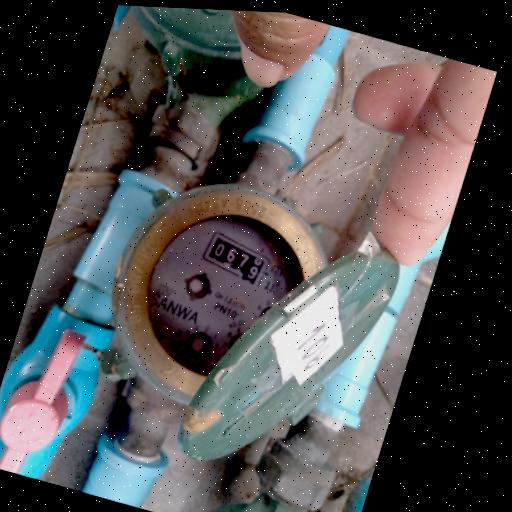0: (208, 237, 232, 264)
6: (219, 242, 244, 269)
7: (232, 248, 254, 275)
9: (239, 253, 267, 286)
border_water_meter_number: (196, 229, 278, 289)
